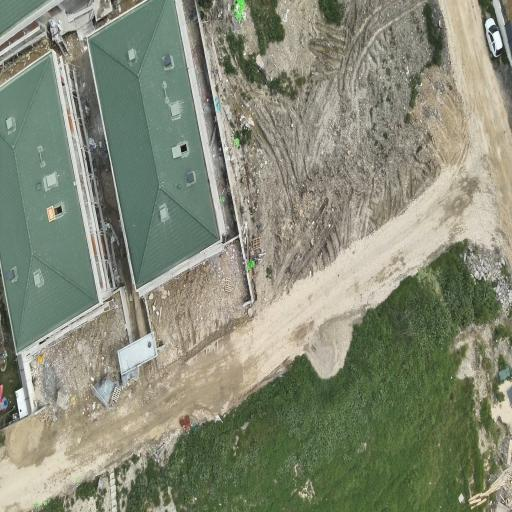car: (485, 18, 503, 57)
